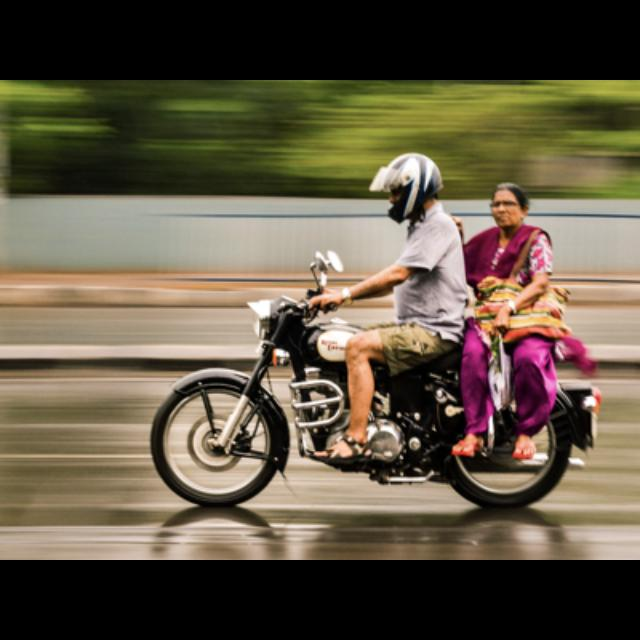With Helmet: (368, 150, 444, 226)
Without Helmet: (488, 181, 528, 231)
